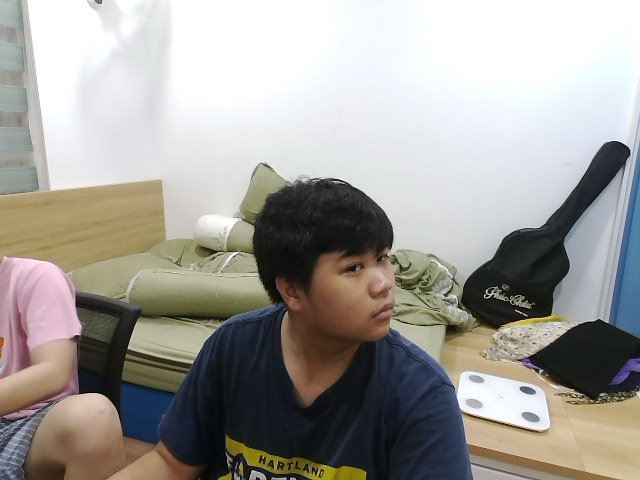face: (257, 179, 396, 342)
